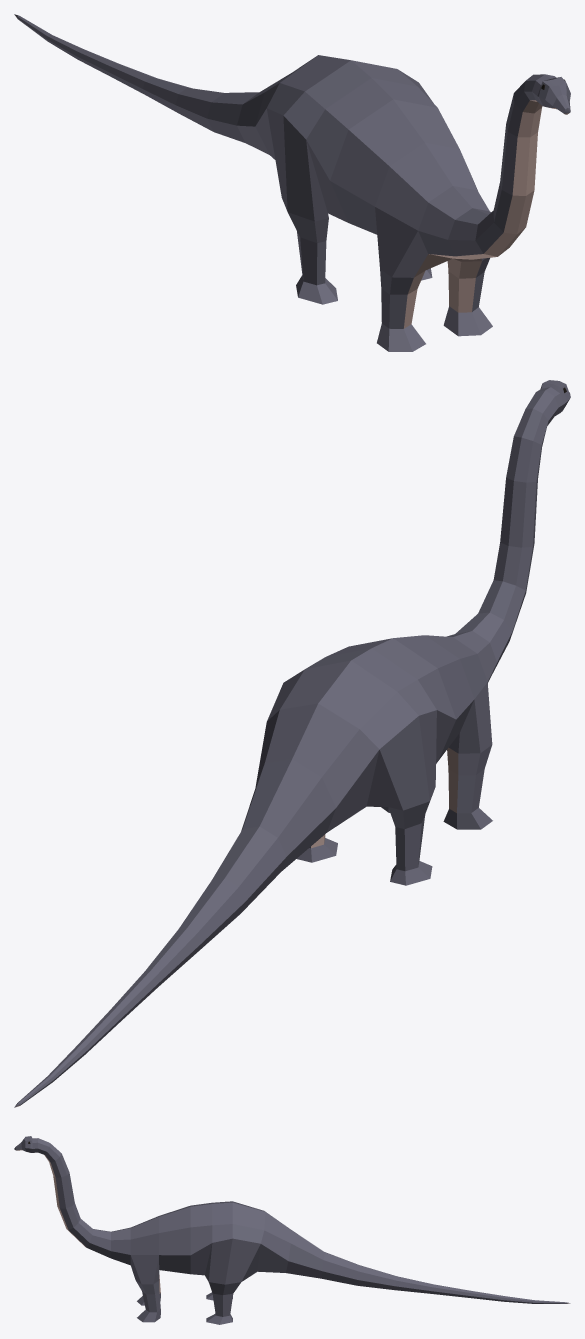
The model's file is Diplodocus.gltf.
3 renders of one model, top to bottom at view 1: azimuth 30°, elevation 25°; view 2: azimuth 150°, elevation 25°; view 3: azimuth 270°, elevation 25°, orthographic. The views are drawn at different scales.
Parts seen in each view (by area): view 1: Geo_Diplodocus; view 2: Geo_Diplodocus; view 3: Geo_Diplodocus.
Part boxes in pixels (x1=…): Geo_Diplodocus: x1=14, y1=14, x2=570, y2=351; Geo_Diplodocus: x1=14, y1=380, x2=570, y2=1107; Geo_Diplodocus: x1=14, y1=1136, x2=570, y2=1324.
Bounding box in the file's own units: 298 × 685 × 2018.
Materials: 1 (1 with a texture image).
